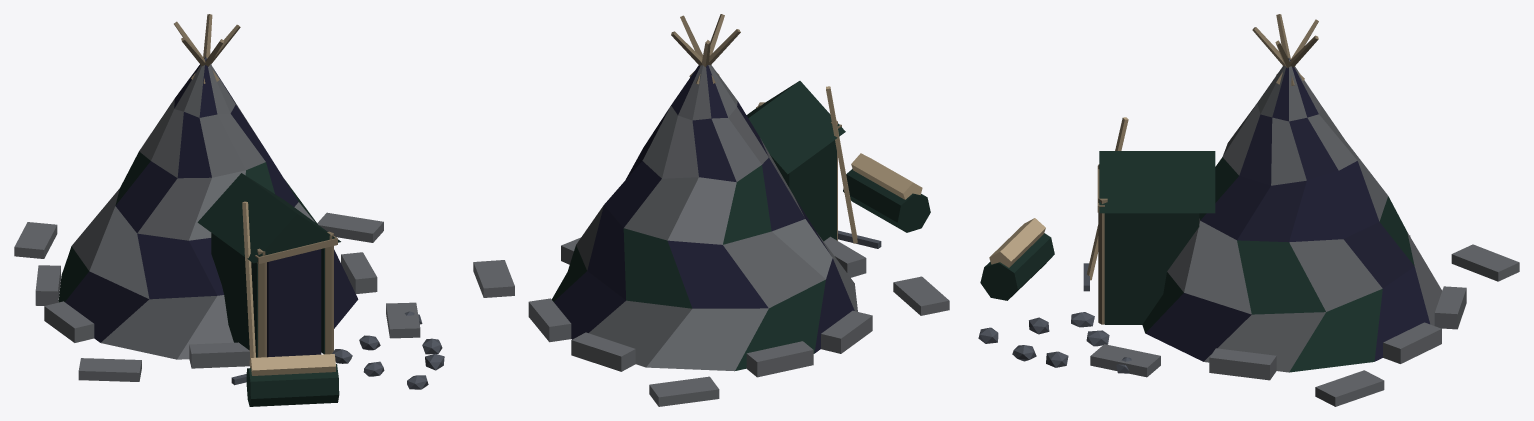
The model's file is collier_hut_cold_empty.glb.
The picture shows the model from 3 angles, left to right: view 1: azimuth 30°, elevation 25°; view 2: azimuth 150°, elevation 25°; view 3: azimuth 270°, elevation 25°; orthographic projection. The views are drawn at different scales.
Visible parts, largest first — view 1: pine_d50, pine_d55, silverfog_d50, ink, driftwood_d35, driftwood_d10, slate_d30; view 2: pine_d50, silverfog_d50, pine_d55, driftwood_d10, driftwood_d35; view 3: pine_d50, pine_d55, silverfog_d50, driftwood_d35, slate_d30, driftwood_d10.
Boxes of the visible parts, bbox=[...] form: pine_d50: bbox=[58, 56, 358, 359]; pine_d55: bbox=[197, 173, 340, 406]; silverfog_d50: bbox=[14, 212, 420, 381]; ink: bbox=[267, 249, 321, 357]; driftwood_d35: bbox=[174, 14, 337, 357]; driftwood_d10: bbox=[242, 201, 335, 375]; slate_d30: bbox=[231, 311, 444, 389]; pine_d50: bbox=[551, 65, 857, 371]; silverfog_d50: bbox=[473, 236, 949, 406]; pine_d55: bbox=[746, 81, 930, 241]; driftwood_d10: bbox=[826, 86, 922, 243]; driftwood_d35: bbox=[671, 14, 841, 240]; pine_d50: bbox=[1142, 58, 1441, 372]; pine_d55: bbox=[980, 151, 1215, 324]; silverfog_d50: bbox=[1090, 235, 1519, 406]; driftwood_d35: bbox=[1097, 14, 1318, 324]; slate_d30: bbox=[978, 263, 1131, 373]; driftwood_d10: bbox=[989, 117, 1128, 280].
Bounding box in the file's own units: 4.33 × 2.96 × 5.13.
